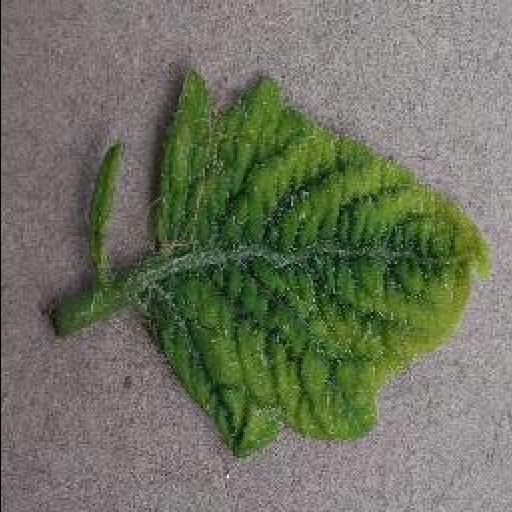disease_tomato: (130, 68, 496, 462)
